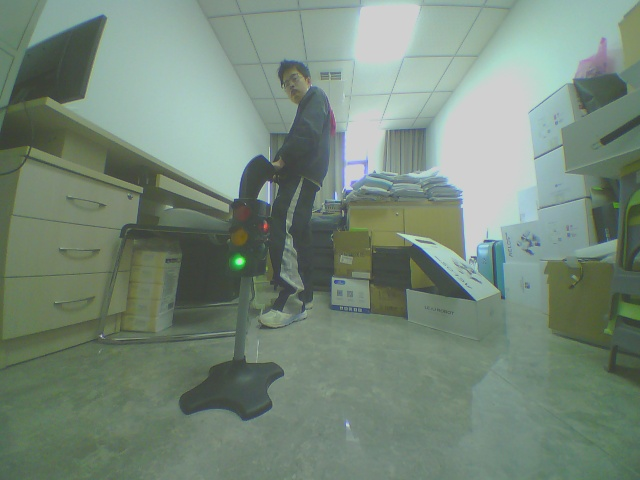Green: (222, 201, 284, 296)
